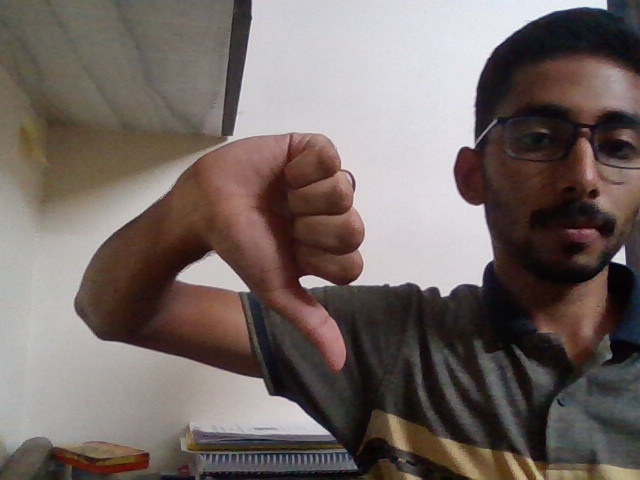No: (177, 113, 381, 390)
